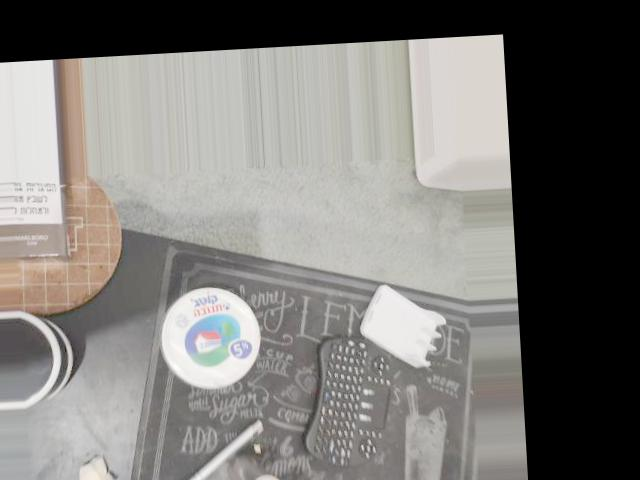cotage: (152, 265, 267, 393)
